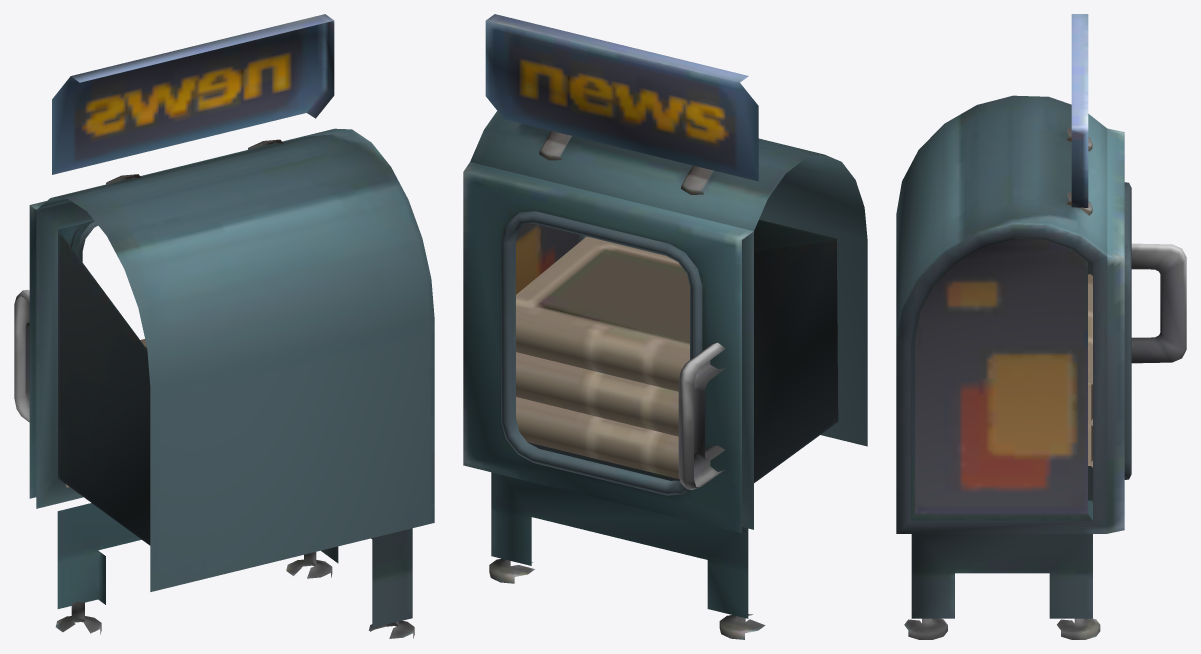
File: DecoNewsStand.fbx
3 renders of one model, left to right at view 1: azimuth 30°, elevation 25°; view 2: azimuth 150°, elevation 25°; view 3: azimuth 270°, elevation 25°, orthographic. The views are drawn at different scales.
Visible parts, largest first — view 1: newspaper_machine; view 2: newspaper_machine; view 3: newspaper_machine.
Part boxes in pixels (box(x1,y1,x2,y2)): newspaper_machine: box(14, 14, 434, 638); newspaper_machine: box(463, 14, 867, 639); newspaper_machine: box(896, 14, 1186, 639).
Size of what is drawn, in the model's own units: 0.7619 by 1.42 by 0.728.
